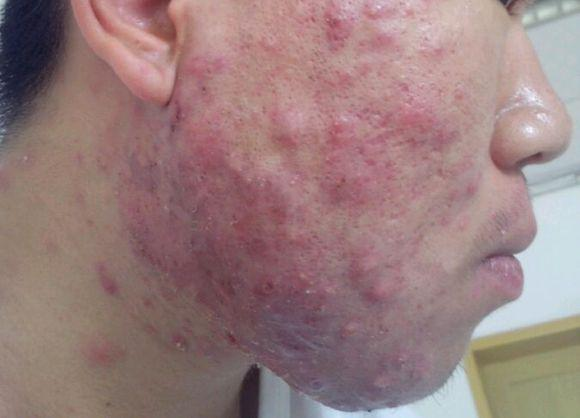fore: (357, 15, 396, 56), (124, 222, 161, 264), (218, 326, 260, 360), (415, 31, 450, 65), (366, 280, 403, 312), (317, 15, 347, 54), (92, 263, 123, 299), (324, 61, 359, 92), (198, 59, 235, 88), (267, 219, 298, 253), (212, 240, 243, 274), (251, 169, 280, 203), (281, 168, 316, 195), (271, 114, 300, 146), (351, 136, 386, 161), (350, 53, 379, 83), (332, 167, 356, 203), (224, 163, 251, 194), (388, 334, 411, 370), (323, 112, 350, 141), (250, 226, 273, 260), (275, 188, 298, 221), (208, 139, 236, 166), (390, 74, 420, 99), (317, 144, 348, 168), (165, 99, 191, 127), (372, 107, 398, 135), (309, 277, 331, 310), (263, 330, 288, 358), (353, 252, 383, 275), (463, 170, 486, 200), (213, 270, 239, 296), (183, 161, 206, 190), (438, 122, 461, 149), (197, 186, 224, 209), (258, 31, 282, 56), (136, 318, 159, 344), (134, 290, 158, 314), (393, 2, 421, 22), (431, 211, 454, 235), (257, 275, 277, 302), (371, 369, 394, 392), (453, 212, 475, 235), (184, 55, 202, 83), (270, 362, 290, 387), (404, 102, 423, 127), (358, 4, 383, 22), (292, 349, 313, 370), (341, 312, 355, 343), (293, 261, 309, 287), (404, 369, 421, 393), (230, 205, 249, 226), (170, 340, 195, 354)
